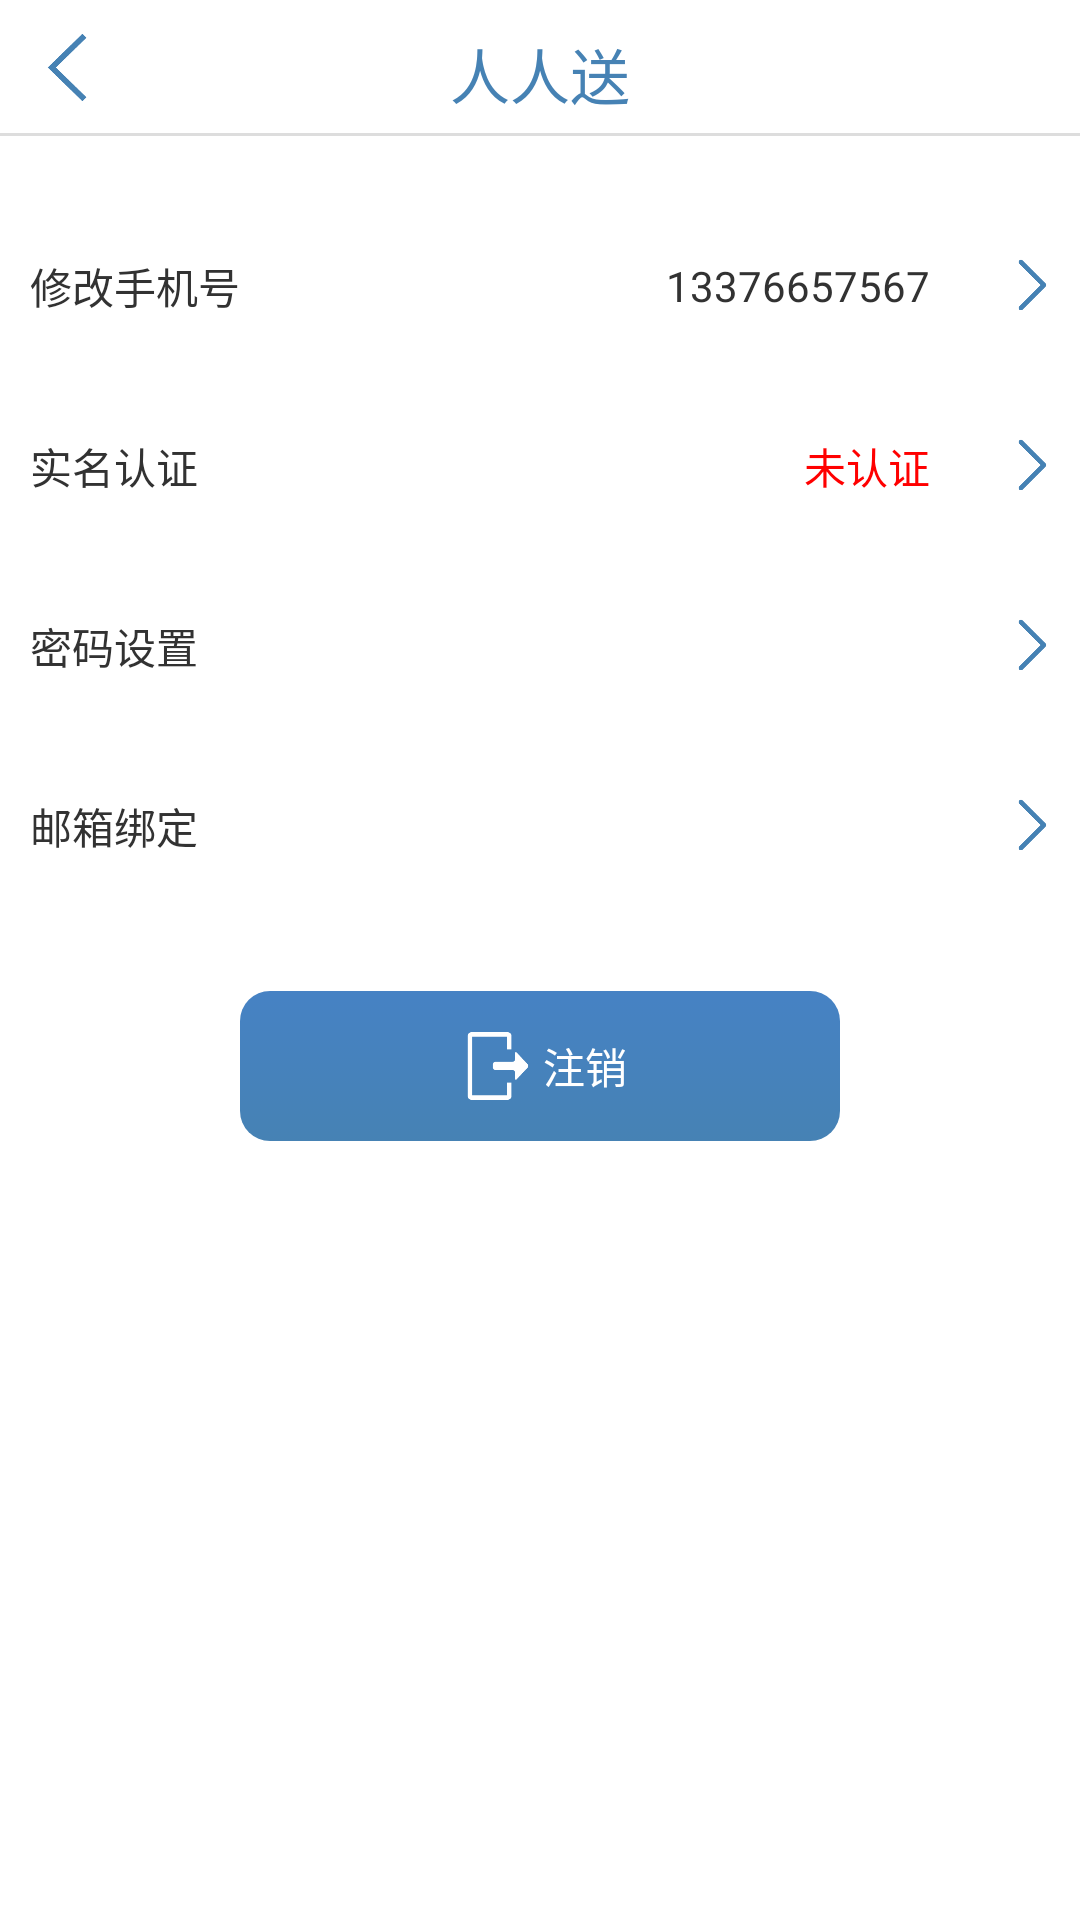

Icon bounding boxes for this 1080*1920 phone screenshot, format detection(x1, y1, x2, y2):
back: detection(48, 34, 86, 101)
go ahead: detection(1019, 260, 1046, 310), detection(1019, 440, 1046, 490), detection(1019, 620, 1046, 670), detection(1019, 800, 1046, 850)
